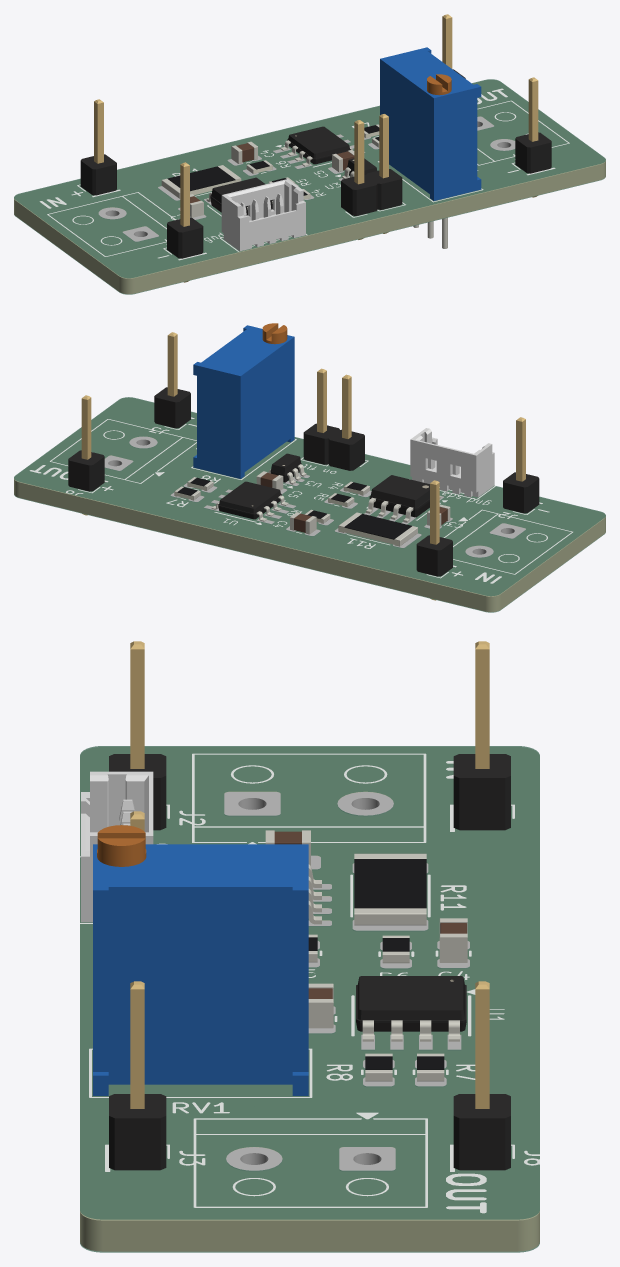
File: board.glb
The picture shows the model from 3 angles, top to bottom: view 1: azimuth 30°, elevation 25°; view 2: azimuth 150°, elevation 25°; view 3: azimuth 270°, elevation 25°; orthographic projection. The views are drawn at different scales.
Visible parts, largest first — view 1: =>[0:1:1:29], =>[0:1:1:27], =>[0:1:1:9], =>[0:1:1:13] (×4), =>0:1:1:16, =>[0:1:1:23], =>[0:1:1:25], =>[0:1:1:24], =>[0:1:1:7], =>[0:1:1:3], =>[0:1:1:21], =>[0:1:1:28] (+1 smaller); view 2: =>[0:1:1:29], =>[0:1:1:27], =>[0:1:1:9], =>[0:1:1:13] (×4), =>0:1:1:16, =>[0:1:1:23], =>[0:1:1:25], =>[0:1:1:24], =>[0:1:1:21], =>[0:1:1:7], =>[0:1:1:3], =>[0:1:1:19] (+2 smaller); view 3: =>[0:1:1:29], =>[0:1:1:27], =>[0:1:1:9], =>[0:1:1:13] (×4), =>[0:1:1:25], =>[0:1:1:24], =>[0:1:1:7], =>[0:1:1:3], =>0:1:1:16, =>[0:1:1:5] (×2), =>[0:1:1:11] (×3), =>[0:1:1:28].
Boxes of the visible parts, x1,y1,x2,y2 form: =>[0:1:1:29]: (14, 80, 605, 294); =>[0:1:1:27]: (14, 79, 605, 278); =>[0:1:1:9]: (380, 47, 481, 248); =>[0:1:1:13] (×4): (80, 14, 551, 282); =>0:1:1:16: (221, 179, 305, 251); =>[0:1:1:23]: (341, 114, 402, 239); =>[0:1:1:25]: (39, 88, 569, 260); =>[0:1:1:24]: (98, 116, 515, 241); =>[0:1:1:7]: (280, 126, 354, 166); =>[0:1:1:3]: (161, 165, 241, 198); =>[0:1:1:21]: (206, 177, 272, 215); =>[0:1:1:28]: (14, 176, 605, 294); =>[0:1:1:29]: (14, 398, 605, 612); =>[0:1:1:27]: (14, 397, 605, 596); =>[0:1:1:9]: (193, 323, 294, 478); =>[0:1:1:13] (×4): (68, 332, 539, 600); =>0:1:1:16: (410, 428, 494, 497); =>[0:1:1:23]: (303, 368, 364, 470); =>[0:1:1:25]: (29, 417, 572, 583); =>[0:1:1:24]: (104, 436, 525, 557); =>[0:1:1:21]: (366, 475, 441, 522); =>[0:1:1:7]: (211, 481, 288, 521); =>[0:1:1:3]: (338, 512, 417, 546); =>[0:1:1:19]: (268, 453, 306, 484); =>[0:1:1:29]: (80, 747, 539, 1251); =>[0:1:1:27]: (80, 746, 539, 1219); =>[0:1:1:9]: (93, 825, 308, 1095); =>[0:1:1:13] (×4): (109, 641, 510, 1170); =>[0:1:1:25]: (80, 753, 539, 1213); =>[0:1:1:24]: (224, 792, 469, 1170); =>[0:1:1:7]: (356, 976, 466, 1041); =>[0:1:1:3]: (354, 853, 426, 925); =>0:1:1:16: (81, 771, 153, 922); =>[0:1:1:5] (×2): (308, 918, 467, 1028); =>[0:1:1:11] (×3): (365, 935, 444, 1081); =>[0:1:1:28]: (80, 1242, 539, 1252).
Bounding box in the file's own units: 0.0495 × 0.0171 × 0.0203.
